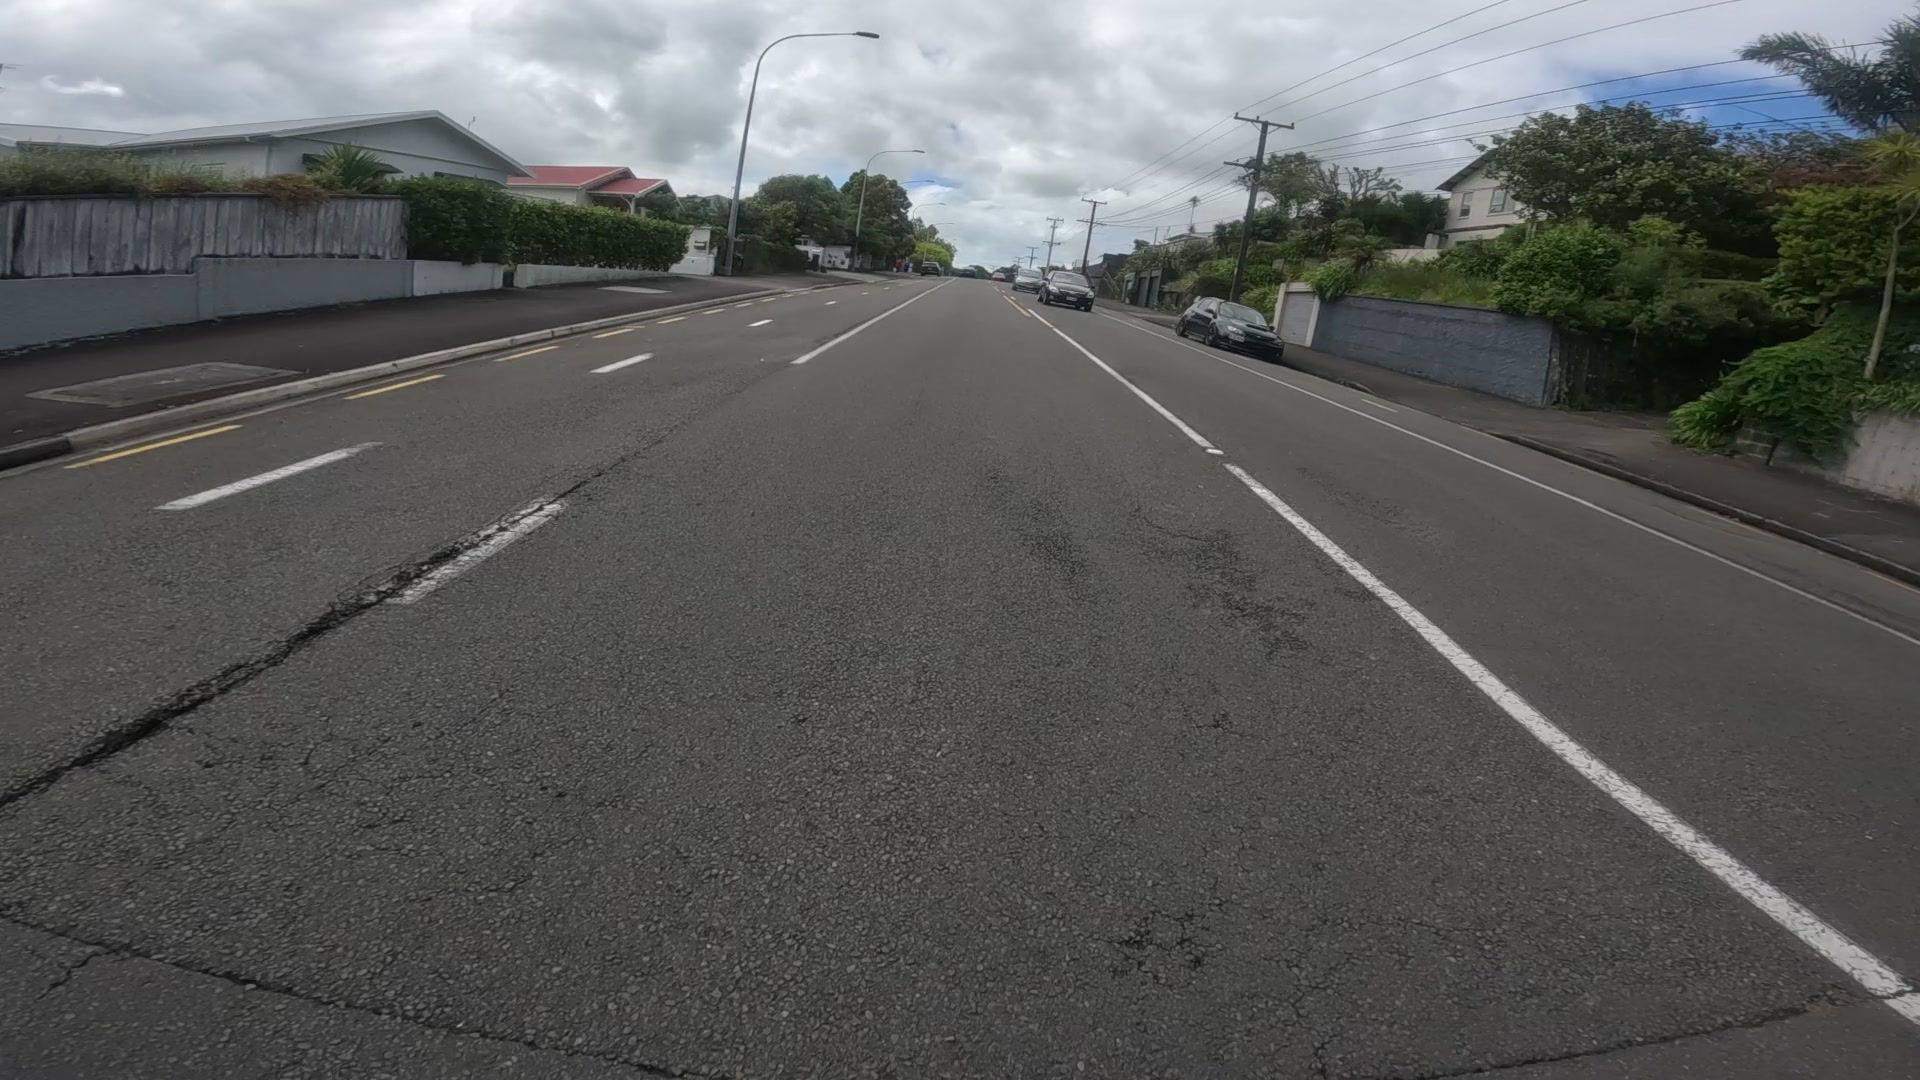Longitudinal_Cracking: (33, 438, 659, 771)
